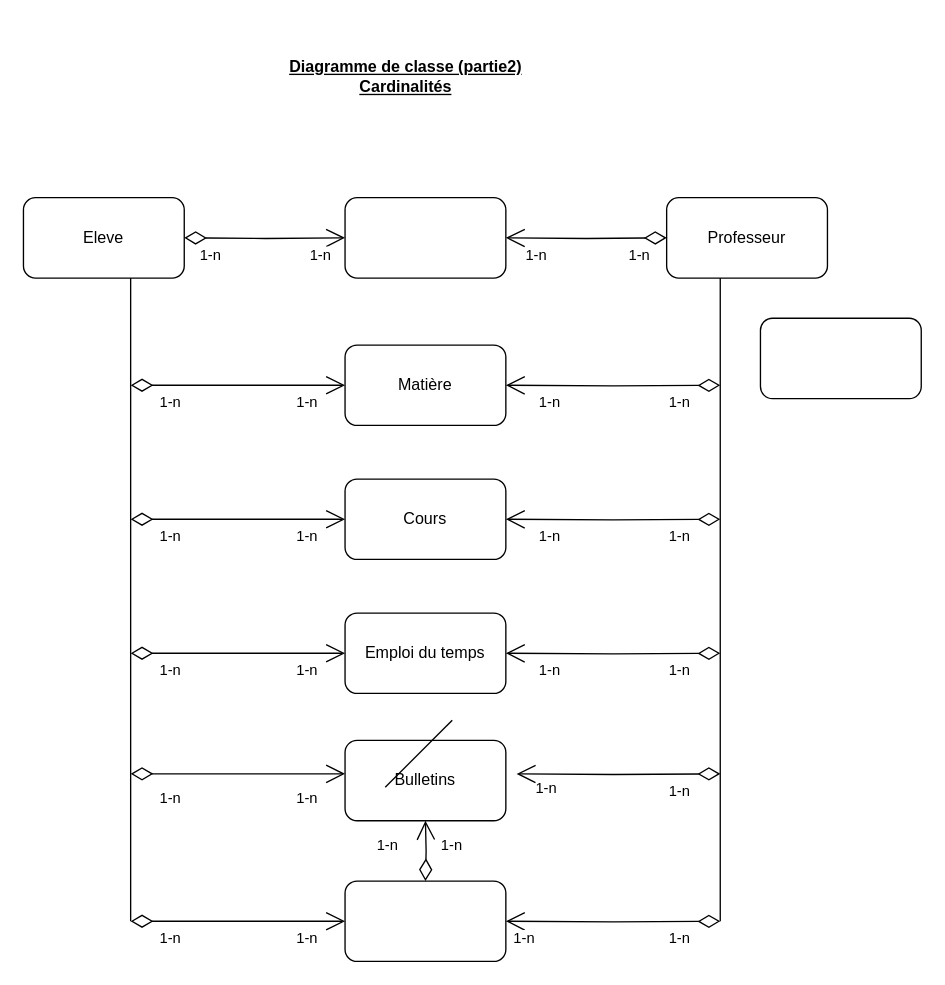
This 945x985 diagram has some shape labels left out. Each missing label, with the centre of its shape:
Classe: pixel 425 237
Conseil de classe: pixel 425 920
Prof.principlal=prof: pixel 840 358
